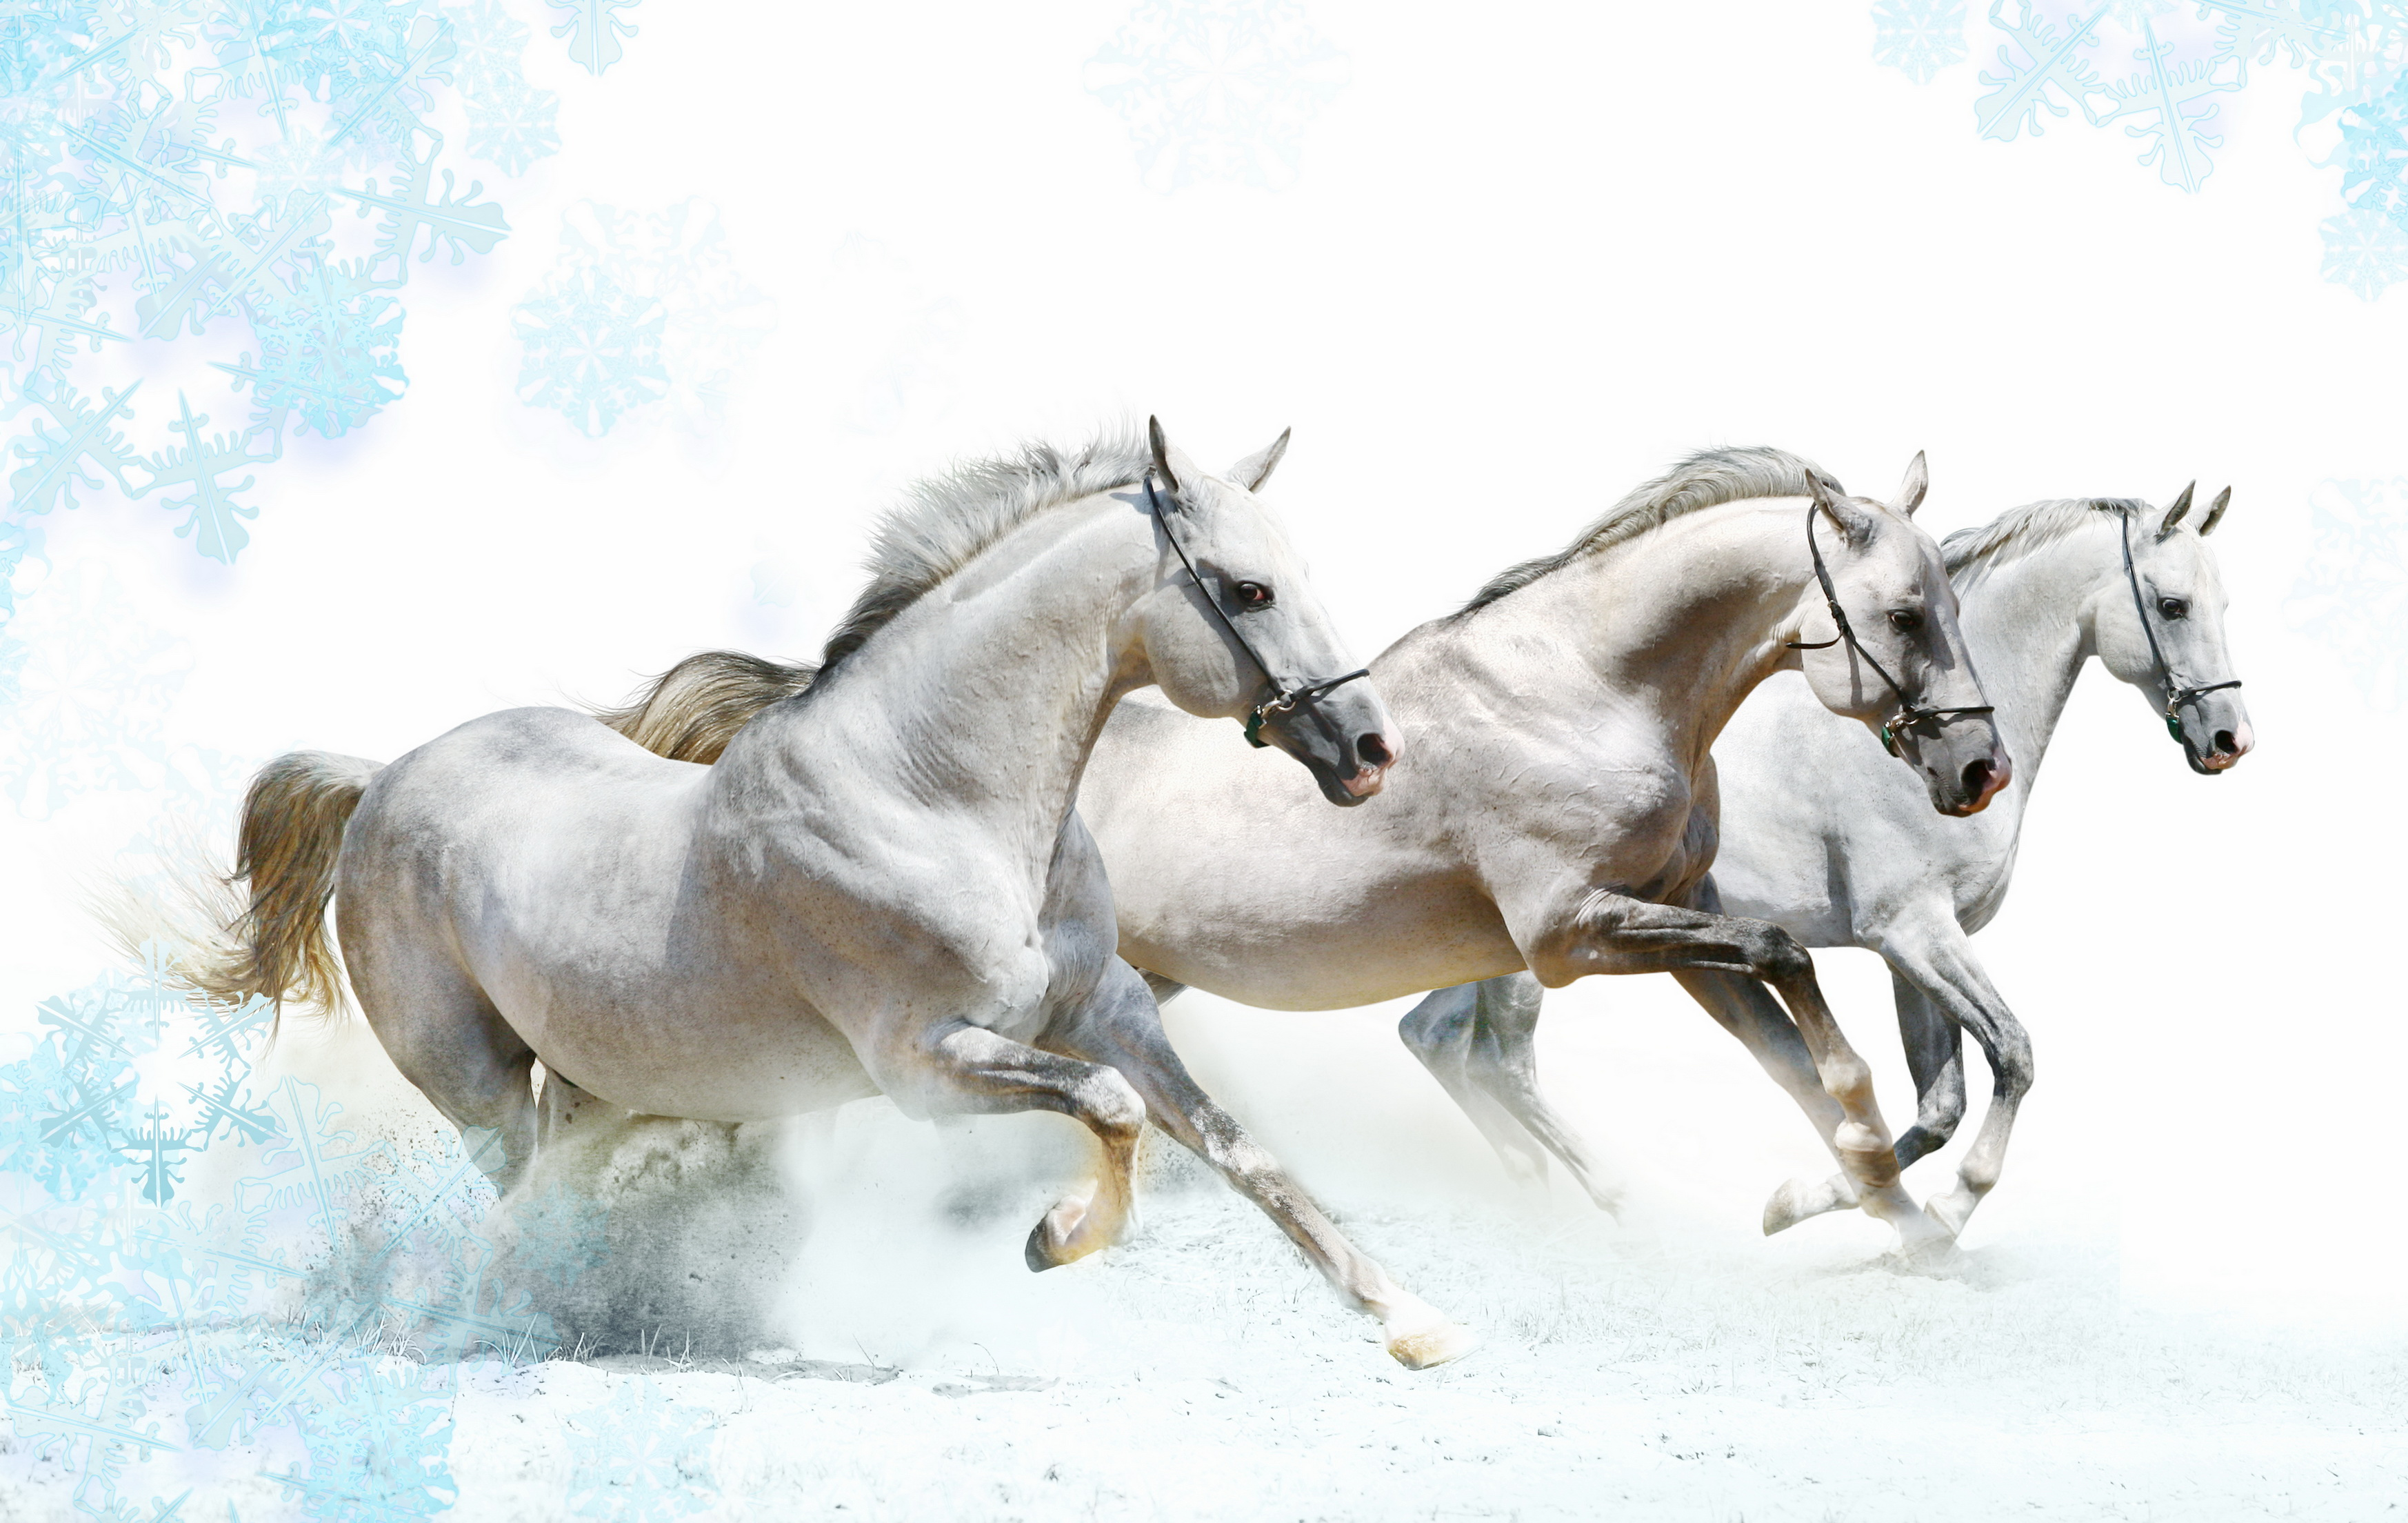horse: (63, 388, 1493, 1383), (570, 432, 2017, 1284), (1387, 470, 2268, 1258)
